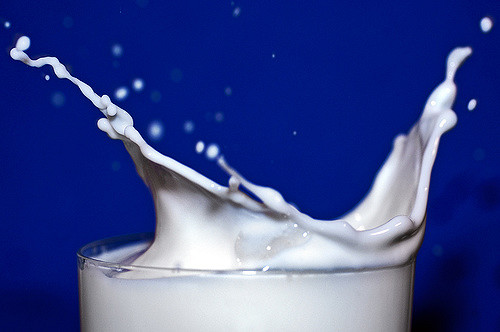glass of milk: (59, 191, 419, 332)
